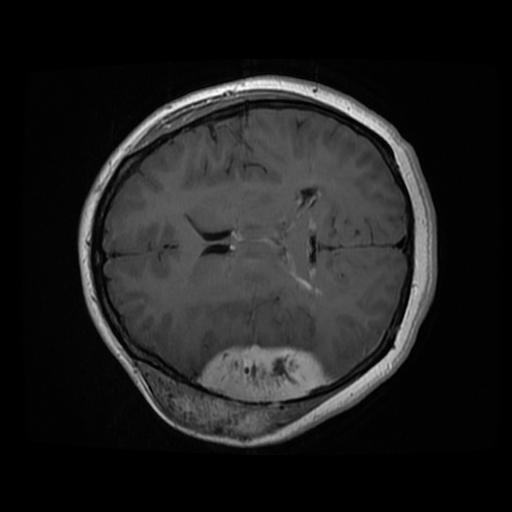meningioma: (135, 344, 326, 438)
